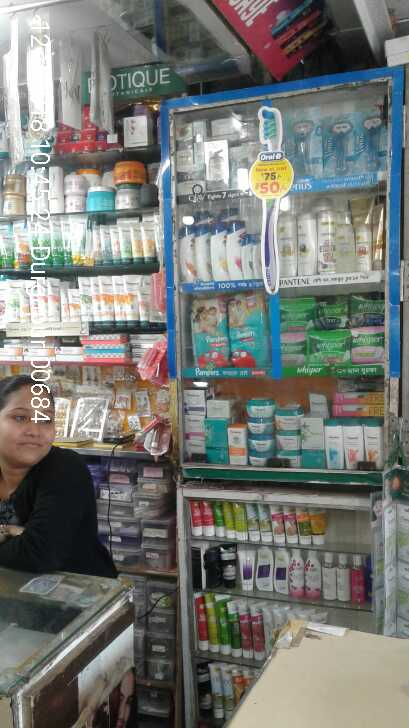venus: (288, 111, 322, 176), (322, 111, 357, 170), (357, 111, 383, 170)
